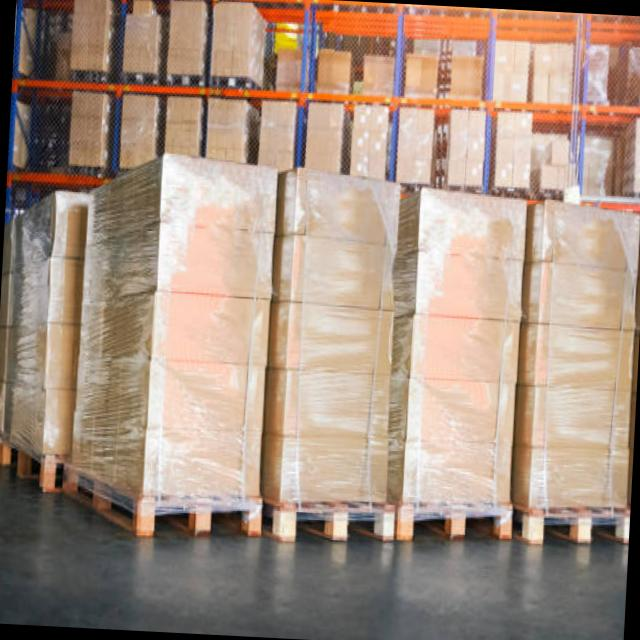Wooden-Pallets: (60, 463, 264, 546), (272, 489, 397, 549), (522, 498, 631, 559), (393, 502, 512, 555), (0, 429, 54, 493)
